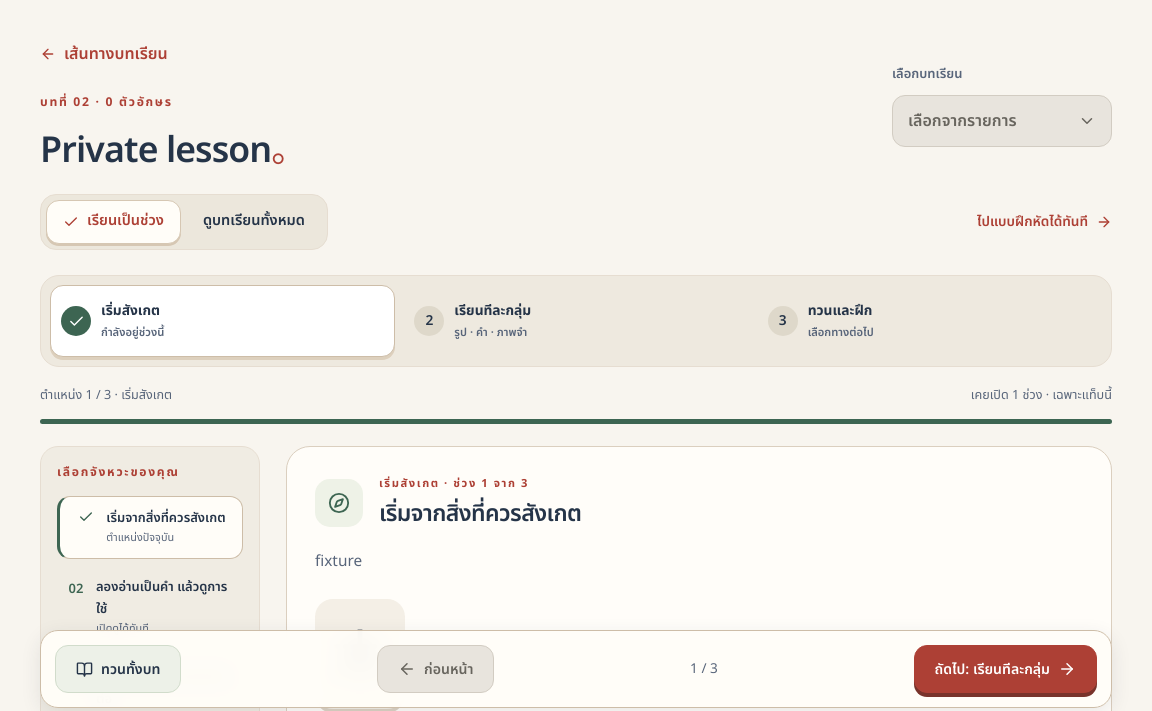
renders stored lesson sections but disables progress writes in a read-only account
The width and height of the screenshot is (1152, 711).
Click the button "02 ลองอ่านเป็นคำ แล้วดูการใช้ เปิดดูได้ทันที" at (150, 607), box [57,565,243,649]
(page scrolled)
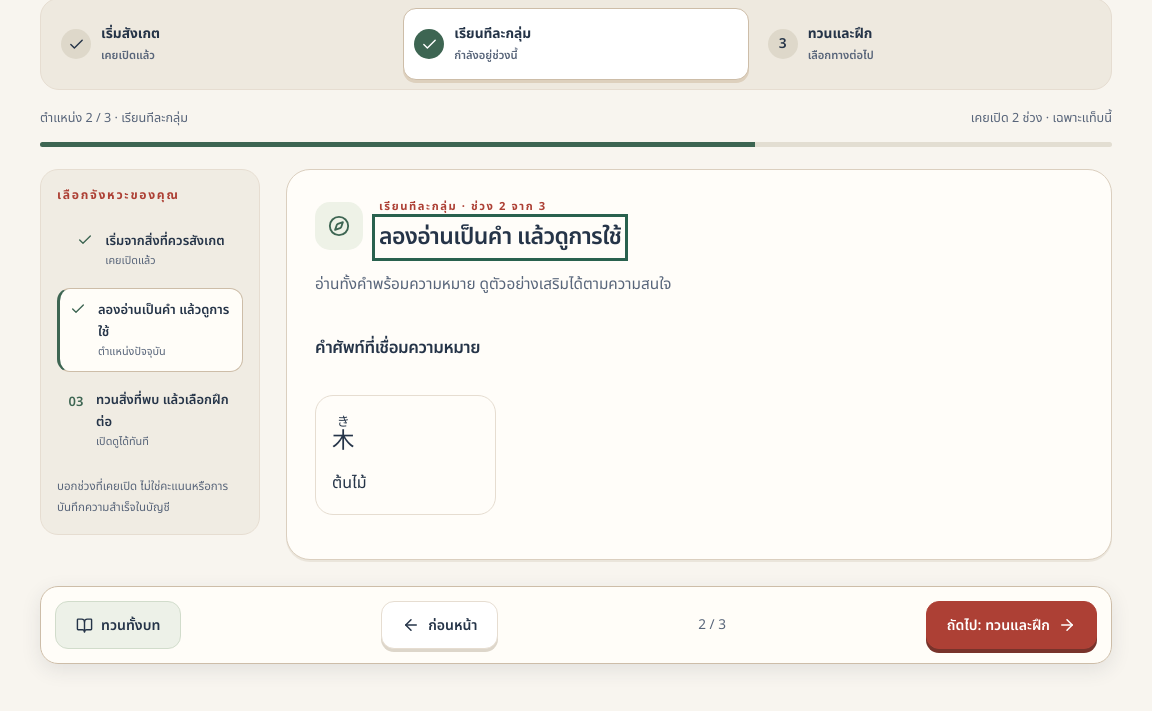
Result: the text "ต้นไม้" is shown at [332,471,367,495]
